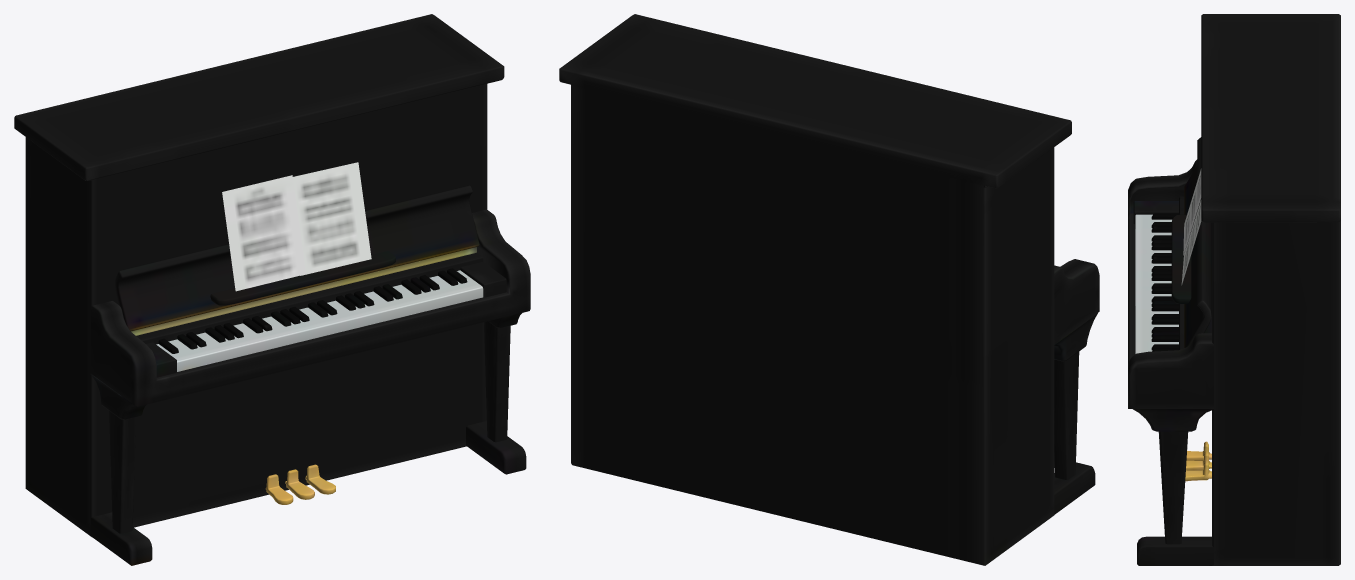
3 renders of one model, left to right at view 1: azimuth 30°, elevation 25°; view 2: azimuth 150°, elevation 25°; view 3: azimuth 270°, elevation 25°, orthographic. The views are drawn at different scales.
Size of the model in its own units: 15.73 by 13.49 by 7.19.
Materials: 1 (1 with a texture image).
